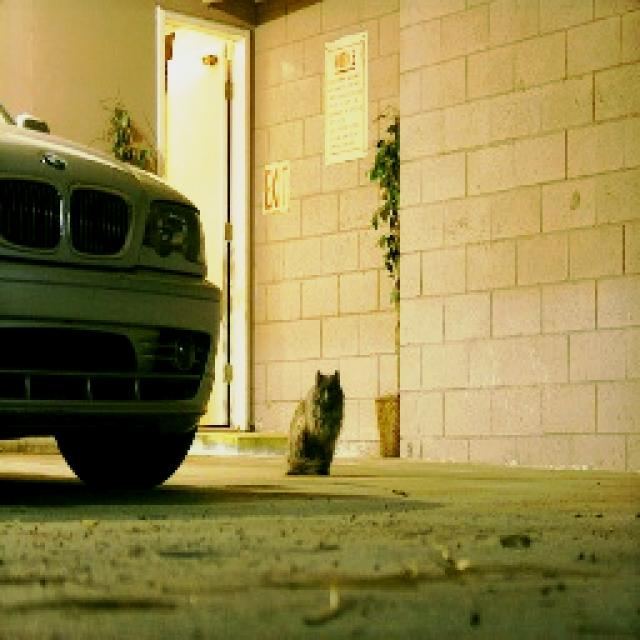cat: (255, 353, 360, 499)
